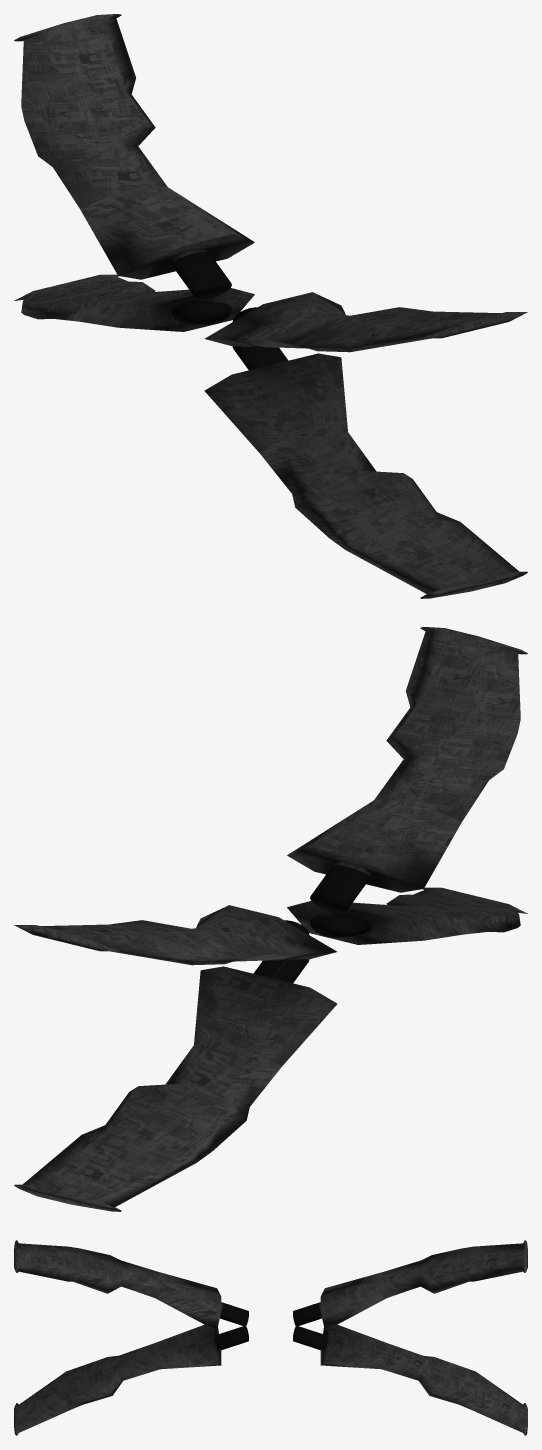
3 renders of one model, top to bottom at view 1: azimuth 30°, elevation 25°; view 2: azimuth 150°, elevation 25°; view 3: azimuth 270°, elevation 25°, orthographic. The views are drawn at different scales.
Visible parts, largest first — view 1: wing.001; view 2: wing.001; view 3: wing.001.
Part boxes in pixels (<box>): wing.001: <box>14,14,527,598</box>; wing.001: <box>14,627,527,1211</box>; wing.001: <box>14,1240,527,1435</box>.
Size of the model in its own units: 4.37 by 6.9 by 19.06.
Materials: 1 (1 with a texture image).
